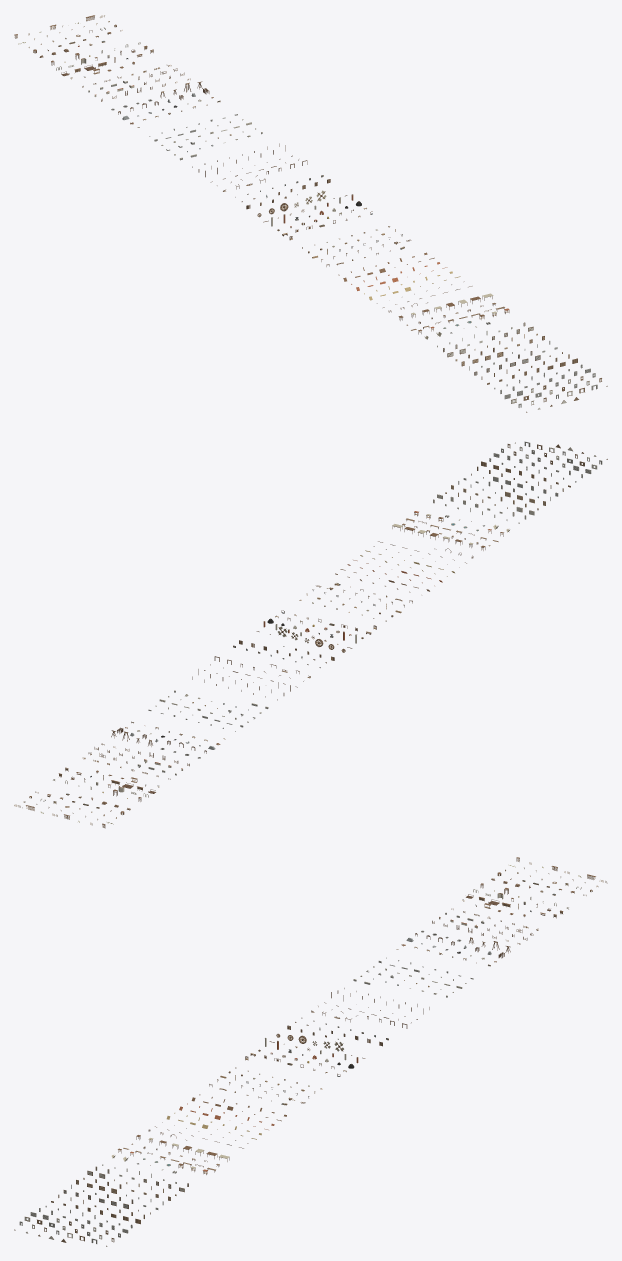
File: gorski_architecture_kit.glb
3 views of the same model, one above another, from view 1: azimuth 30°, elevation 25°; view 2: azimuth 150°, elevation 25°; view 3: azimuth 330°, elevation 25° (orthographic).
Size of the model in its own units: 69.02 by 9 by 643.
